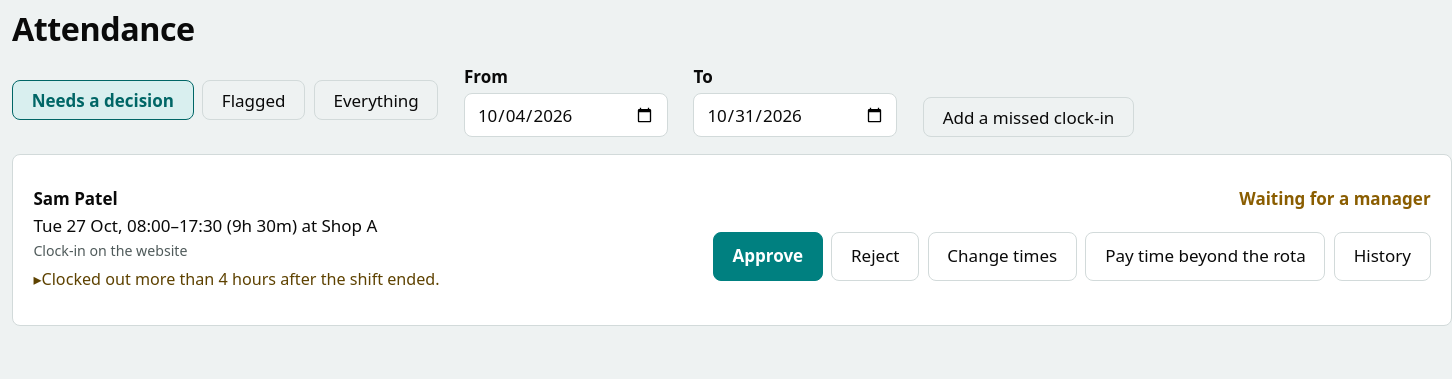
attendance review › approves with one click
Click the button "Approve" at [768, 256], box 713,232 -> 823,281
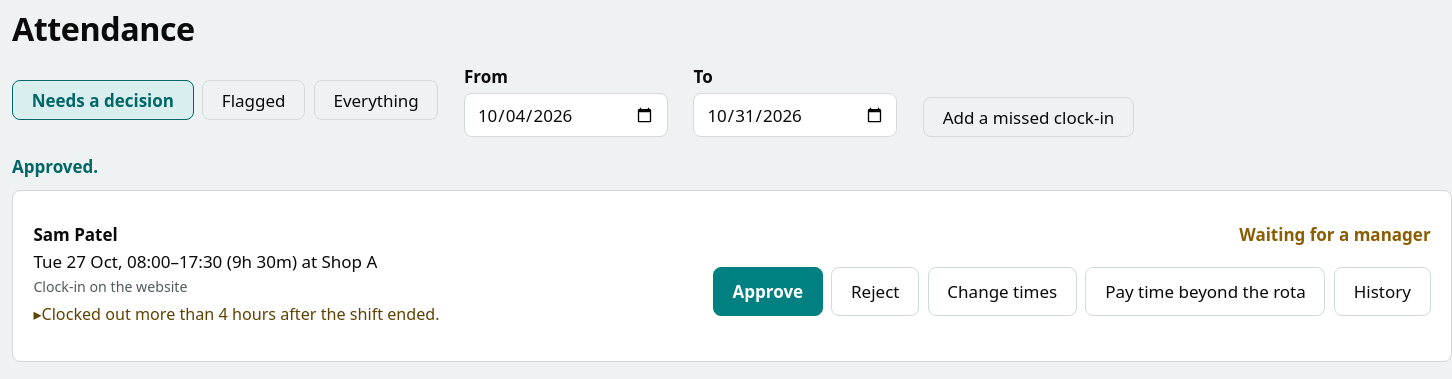
Now the text "Approved." is shown, box 12,155 -> 98,178
